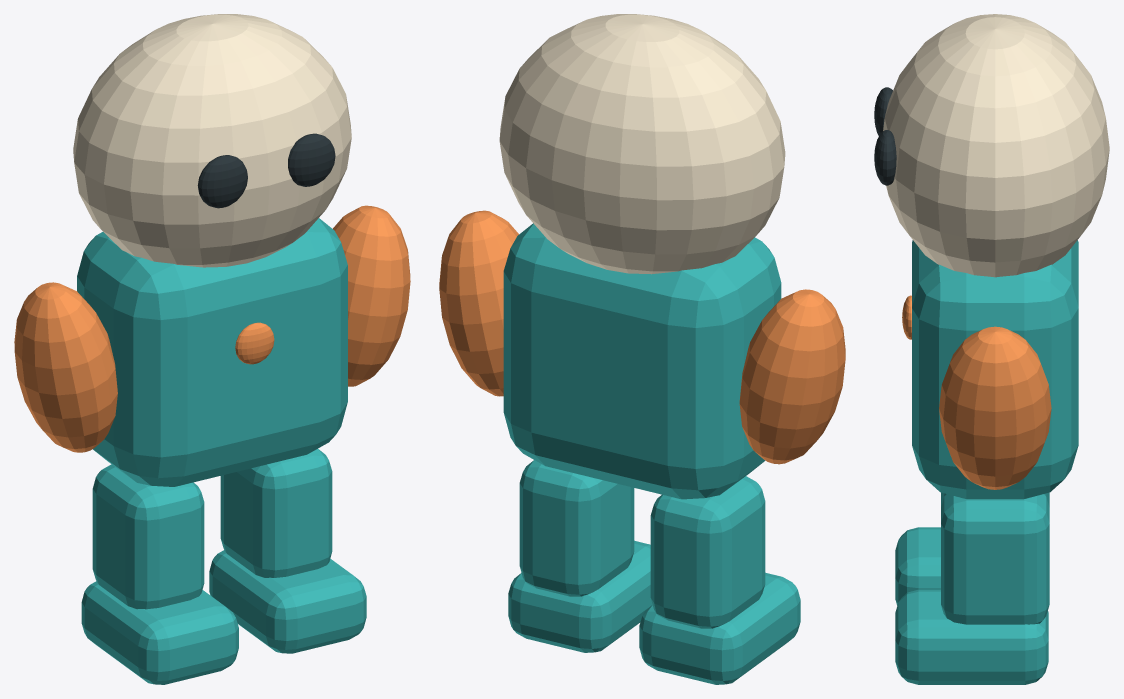
The picture shows the model from 3 angles, left to right: view 1: azimuth 30°, elevation 25°; view 2: azimuth 150°, elevation 25°; view 3: azimuth 270°, elevation 25°; orthographic projection. The views are drawn at different scales.
Visible parts, largest first — view 1: Round cream head, Rounded teal torso, Left sturdy leg, Left short orange arm, Right sturdy leg, Left broad foot, Right broad foot, Right short orange arm, Left dark circular eye, Right dark circular eye, Orange chest button; view 2: Round cream head, Rounded teal torso, Left sturdy leg, Left short orange arm, Right sturdy leg, Right short orange arm, Left broad foot, Right broad foot; view 3: Round cream head, Rounded teal torso, Right short orange arm, Right sturdy leg, Right broad foot, Left broad foot, Right dark circular eye, Left dark circular eye.
Part boxes in pixels (left/top/right/bottom): Round cream head: left=73, top=14, right=351, bottom=267; Rounded teal torso: left=77, top=218, right=347, bottom=486; Left sturdy leg: left=92, top=464, right=204, bottom=609; Left short orange arm: left=14, top=282, right=117, bottom=452; Right sturdy leg: left=220, top=449, right=332, bottom=577; Left broad foot: left=81, top=581, right=238, bottom=684; Right broad foot: left=209, top=550, right=366, bottom=653; Right short orange arm: left=333, top=205, right=410, bottom=386; Left dark circular eye: left=197, top=155, right=247, bottom=208; Right dark circular eye: left=288, top=133, right=335, bottom=186; Orange chest button: left=235, top=322, right=274, bottom=364; Round cream head: left=499, top=14, right=785, bottom=274; Rounded teal torso: left=503, top=223, right=781, bottom=499; Left sturdy leg: left=650, top=476, right=765, bottom=628; Left short orange arm: left=739, top=289, right=845, bottom=464; Right sturdy leg: left=519, top=460, right=634, bottom=596; Right short orange arm: left=439, top=210, right=518, bottom=396; Left broad foot: left=639, top=572, right=800, bottom=684; Right broad foot: left=508, top=540, right=652, bottom=652; Round cream head: left=883, top=14, right=1109, bottom=277; Rounded teal torso: left=912, top=240, right=1078, bottom=499; Right short orange arm: left=939, top=326, right=1051, bottom=489; Right sturdy leg: left=941, top=494, right=1049, bottom=624; Right broad foot: left=895, top=589, right=1048, bottom=684; Left broad foot: left=895, top=527, right=940, bottom=605; Right dark circular eye: left=874, top=130, right=896, bottom=185; Left dark circular eye: left=874, top=87, right=892, bottom=135.
Bounding box in the file's own units: 2.27 × 3.46 × 1.21.
